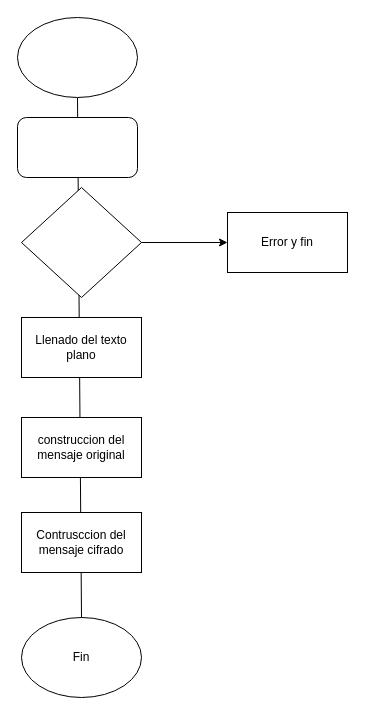
Some shapes in this 365 by 715 pixel diagram are drawn without their labels. The shapes that lost their labels are listed below. From the top down, each one's centre as x and y in pixels, then its label:
At pixel 77 57: "Inicio".
At pixel 77 147: "Mensaje de entrada Mensaje Cifrado, clave".
At pixel 81 242: "Calculo de filas y columnas".
